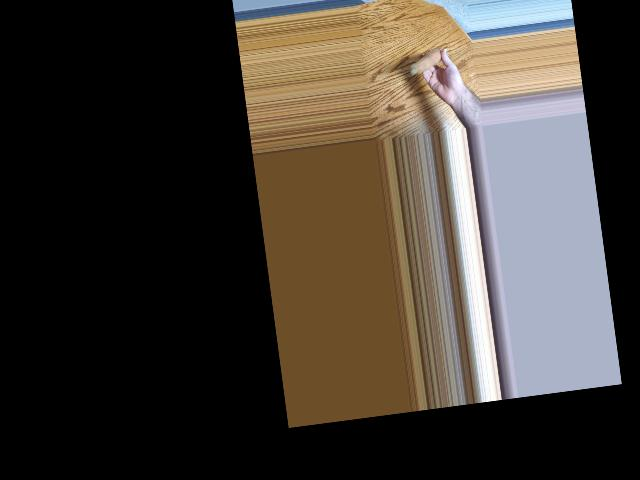sweet_potato: (407, 48, 446, 77)
